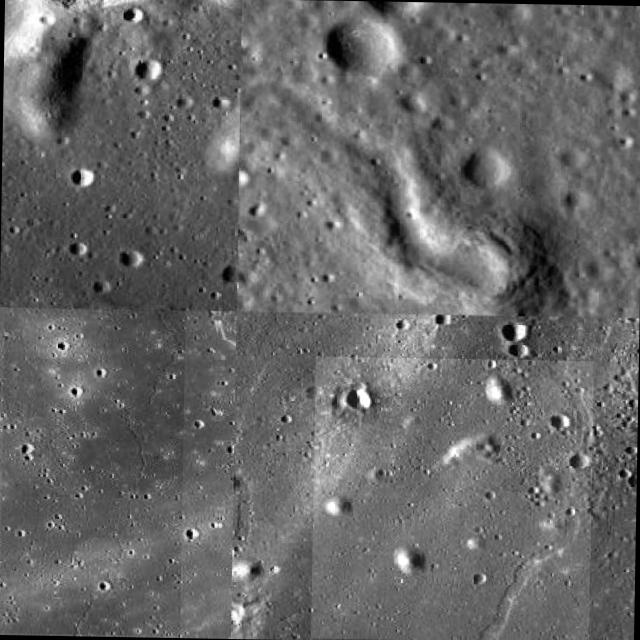crater: (312, 356, 595, 640), (238, 74, 522, 300), (0, 307, 187, 636)
